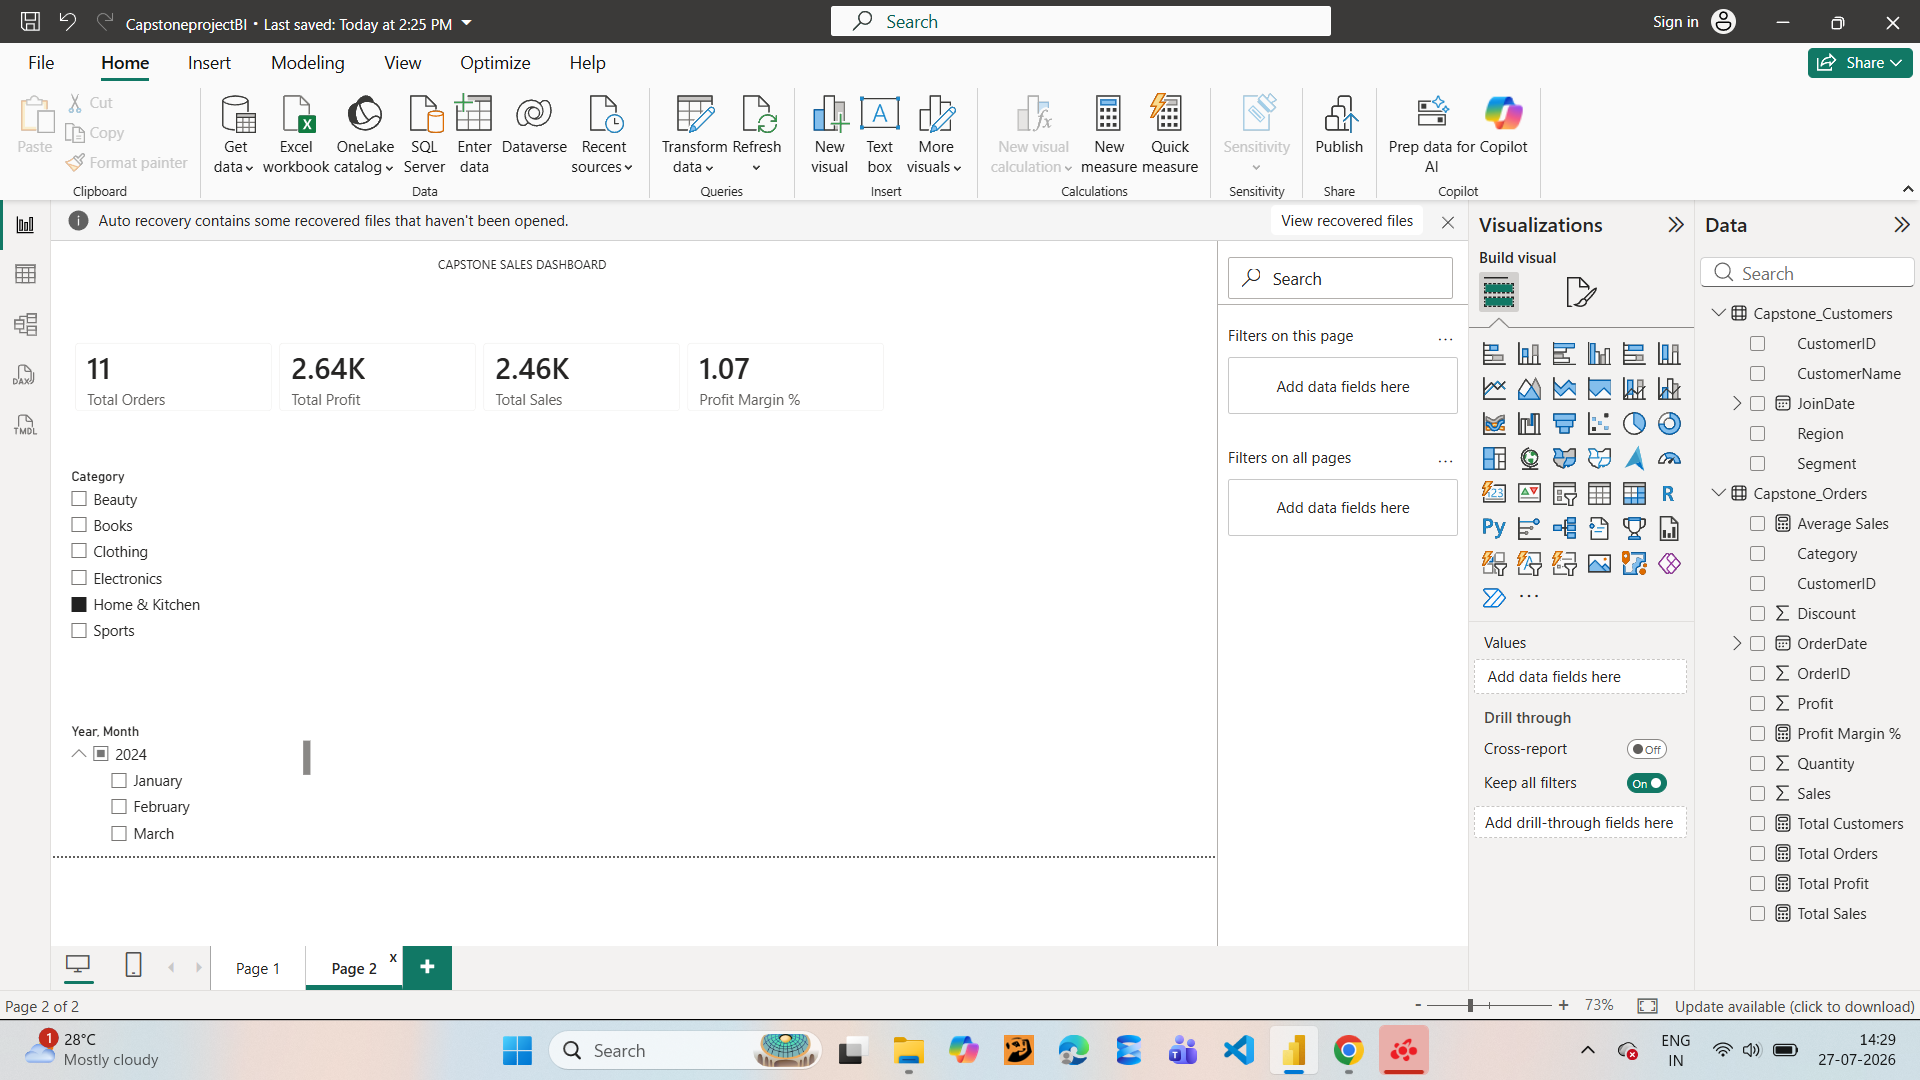

The page's visual inventory and layout, read from the dashboard file:
{"tool":"powerbi","page":{"name":"Page 2","canvas":[1280,720],"ordinal":1},"visuals":[{"type":"textbox","box":[10,0,280,280],"z":0},{"type":"textbox","box":[9.6,56.3,1015.4,83.7],"z":1},{"type":"cardVisual","fields":{"Data":["Capstone_Orders.Total Orders","Capstone_Orders.Total Profit","Capstone_Orders.Total Sales","Capstone_Orders.Profit Margin %"]},"box":[9.6,140,924.9,109.8],"z":2},{"type":"slicer","fields":{"Values":["Capstone_Orders.Category"]},"box":[10,290,280,280],"z":3},{"type":"slicer","fields":{"Values":["Capstone_Orders.OrderDate.Variation.Date Hierarchy.Year","Capstone_Orders.OrderDate.Variation.Date Hierarchy.Month"]},"box":[10,570,280,150],"z":4}]}

Visuals, with their boxes on the page's 1280x720 design canvas (x1, y1, x2, y2). These are canvas units, not pixel positions in the 1920x1080 screenshot, which may show the page scaled, cropped or inside an application window:
textbox: region(10, 0, 290, 280)
textbox: region(10, 56, 1025, 140)
cardVisual - Capstone_Orders.Total Orders x Capstone_Orders.Total Profit: region(10, 140, 934, 250)
slicer - Capstone_Orders.Category: region(10, 290, 290, 570)
slicer - Capstone_Orders.OrderDate.Variation.Date Hierarchy.Year x Capstone_Orders.OrderDate.Variation.Date Hierarchy.Month: region(10, 570, 290, 720)
